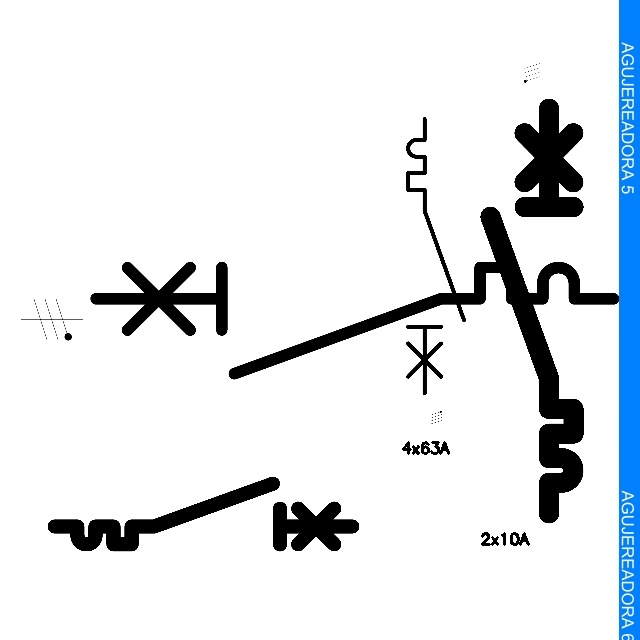interruptor_termomagnetico: (82, 254, 627, 387), (480, 98, 584, 524), (47, 476, 360, 552), (401, 112, 471, 401)
